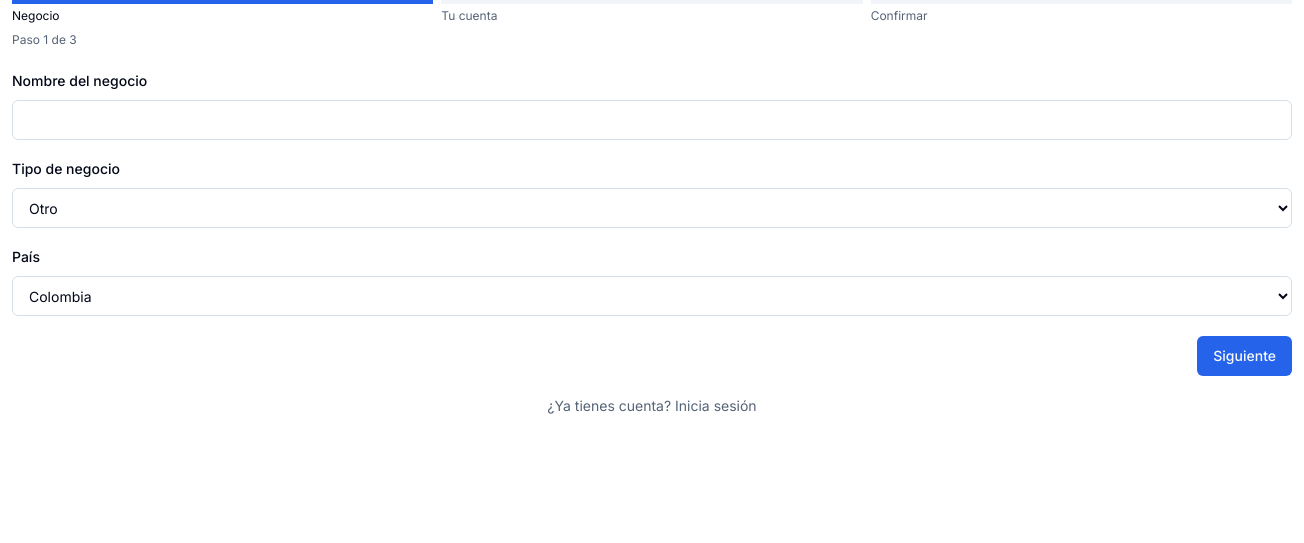
Scenario: OnboardingWizard › exige aceptar los términos y no envía hasta entonces
Type "Panadería La Espiga" into the field labelled "Nombre del negocio" at (652, 120), box [12,100,1292,140]
Click the button "Siguiente" at (1245, 356), box [1197,336,1292,376]
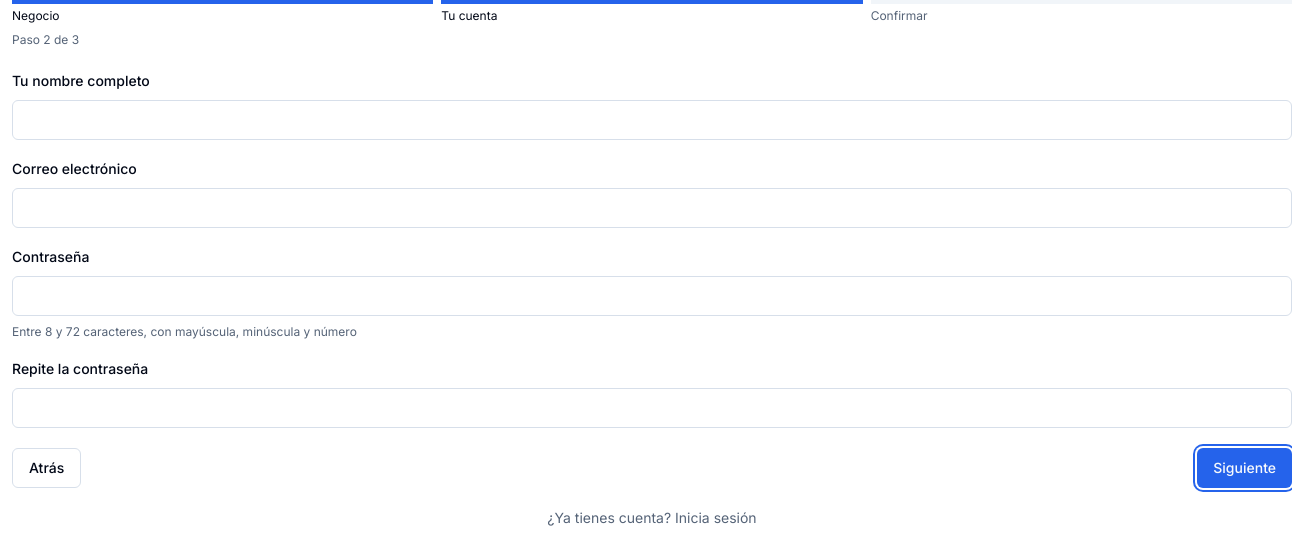
Type "Ana Gómez" into the field labelled "Tu nombre completo" at (652, 120), box [12,100,1292,140]
Type "ana@example.com" into the field labelled "Correo electrónico" at (652, 208), box [12,188,1292,228]
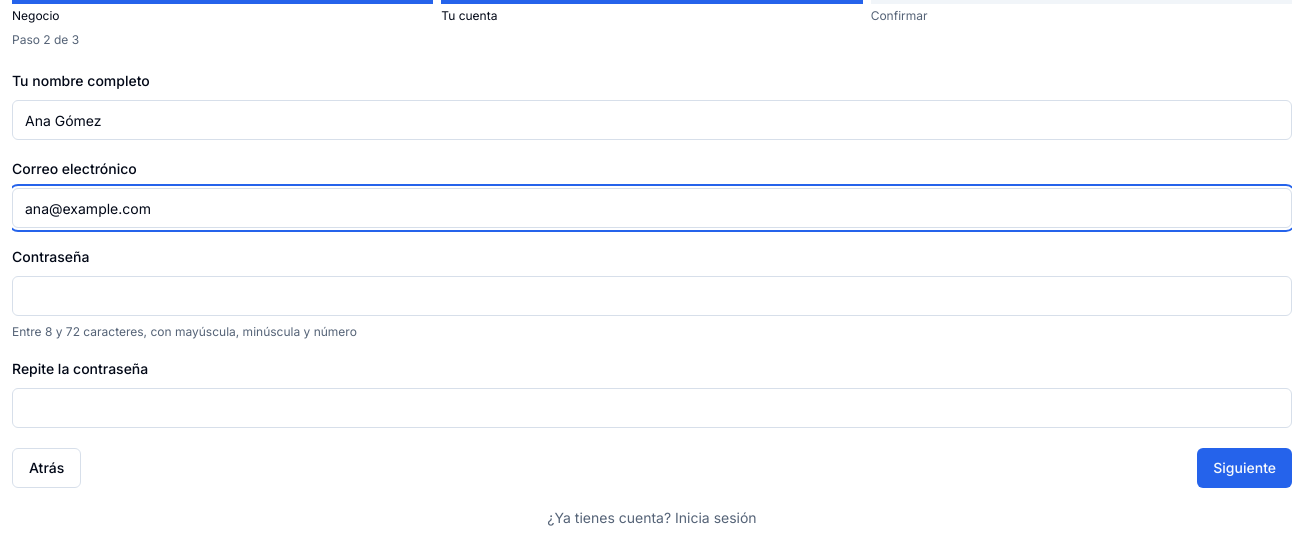
Type "ClaveSegura1" into the password field labelled "Contraseña" at (652, 296), box [12,276,1292,316]
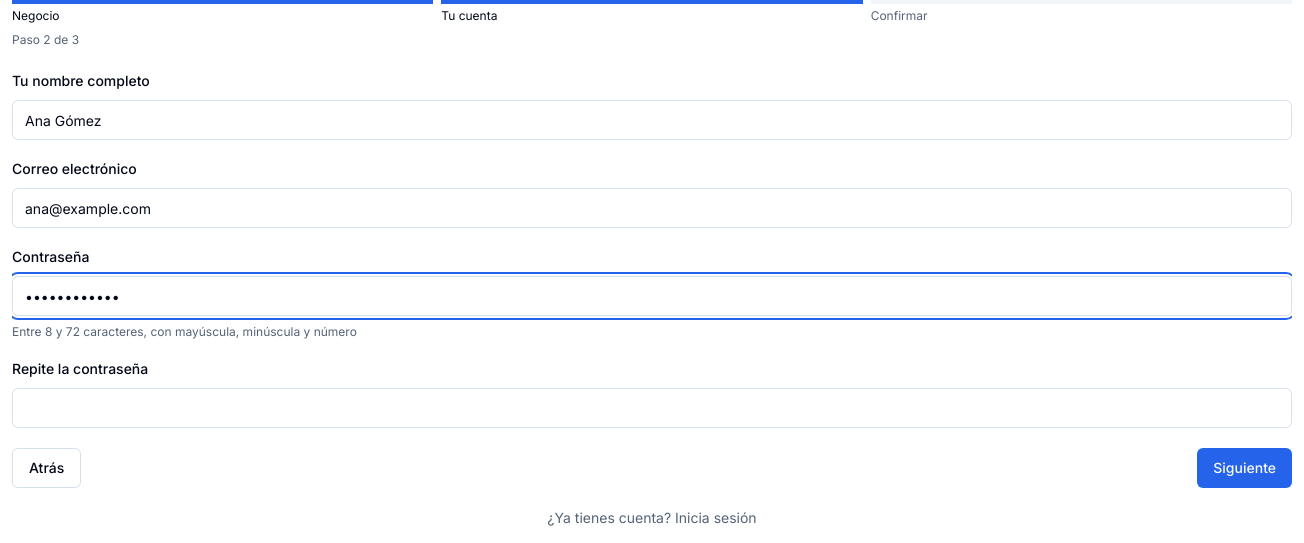
Type "ClaveSegura1" into the password field labelled "Repite la contraseña" at (652, 408), box [12,388,1292,428]
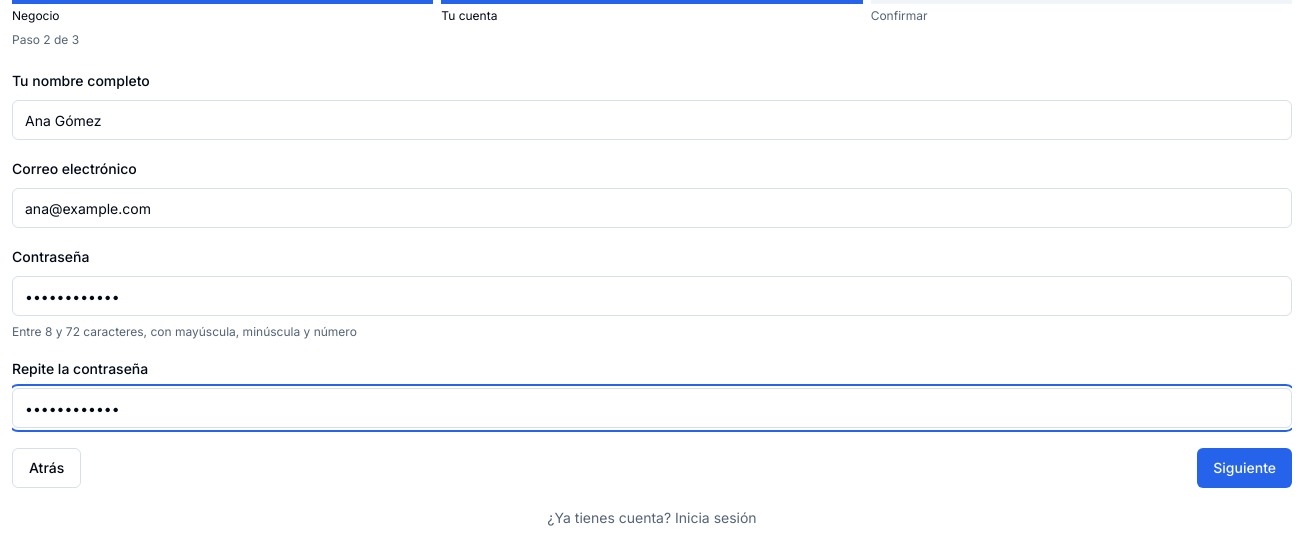
Click the button "Siguiente" at (1245, 468), box [1197,448,1292,488]
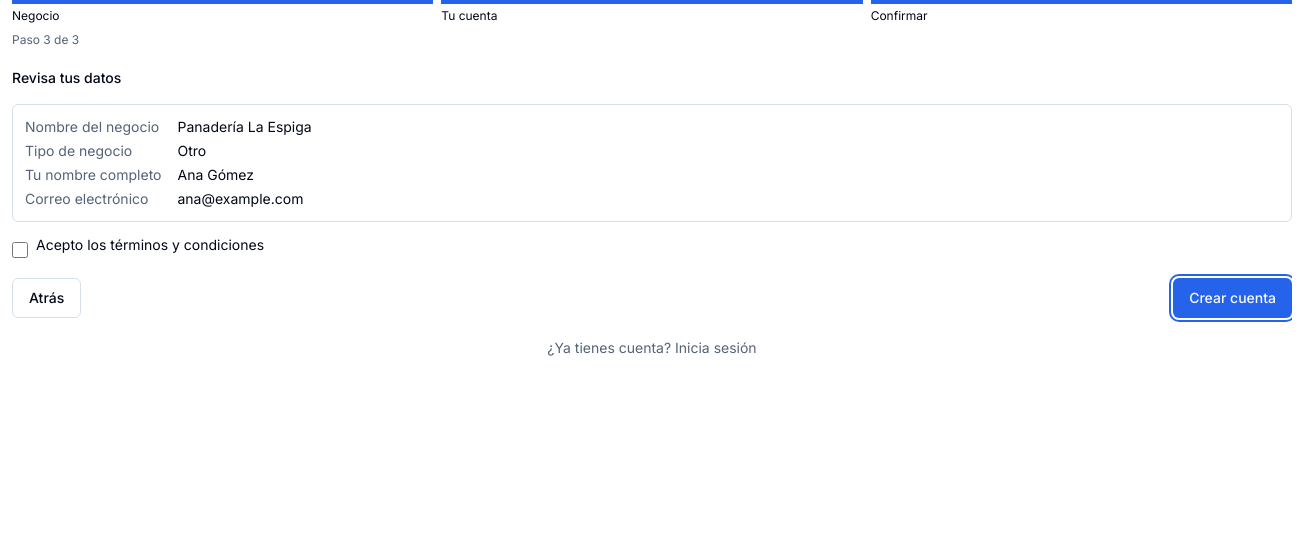
Expected: the heading "Revisa tus datos" is shown, [12,69,121,86]
Click the button "Crear cuenta" at (1233, 298), box [1173,278,1292,318]
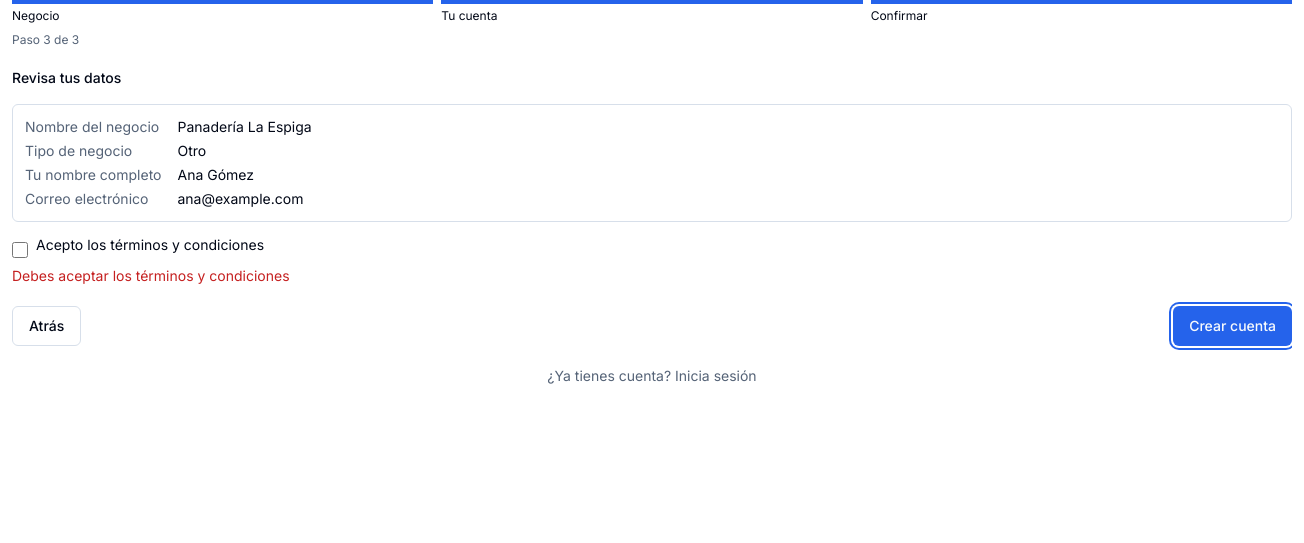
Expected: the text "Debes aceptar los términos y condiciones" is shown, [12,267,290,284]
